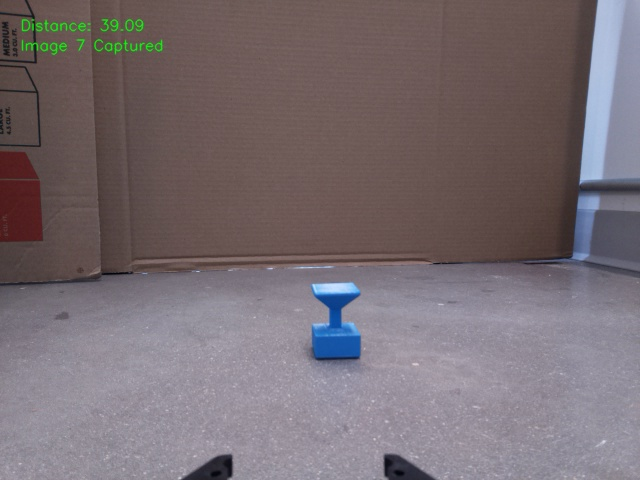block: (309, 282, 362, 359)
